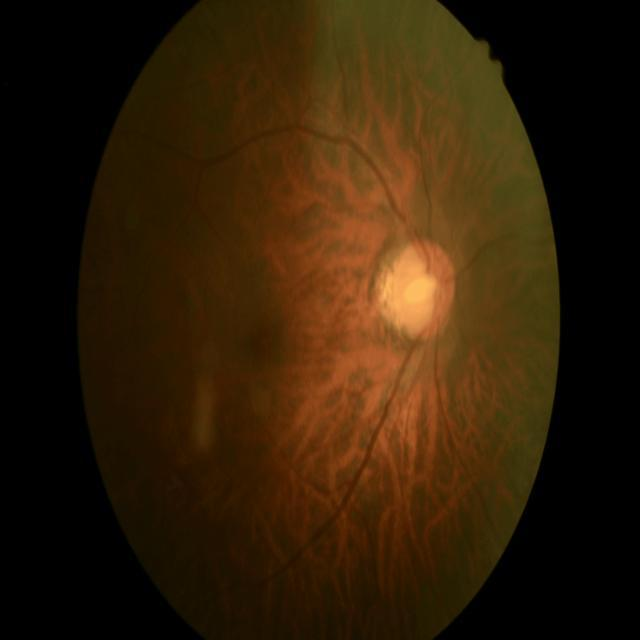cup: (402, 256, 443, 328)
disk: (392, 239, 457, 338)
